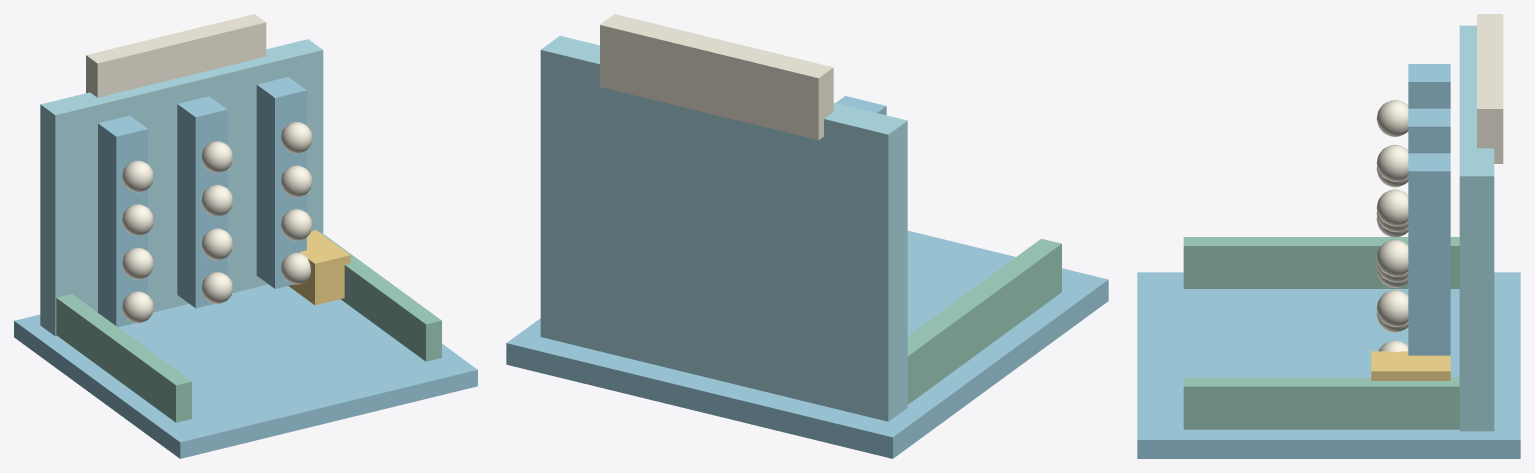
Rendered from fish-bubbles.glb.
3 views of the same model, side by side, from view 1: azimuth 30°, elevation 25°; view 2: azimuth 150°, elevation 25°; view 3: azimuth 270°, elevation 25° (orthographic). The views are drawn at different scales.
Parts seen in each view (by area): view 1: bowl docking mat, reef backdrop, bubble bead.001, guide rail, bubble pump; view 2: reef backdrop, bowl docking mat, bubble bead.001, guide rail; view 3: bowl docking mat, guide rail, reef backdrop, bubble bead.001, bubble pump.
Part boxes in pixels (x1,y1,x2,y2): bowl docking mat: (14, 77, 477, 458); reef backdrop: (40, 39, 323, 336); bubble bead.001: (86, 14, 312, 323); guide rail: (56, 233, 441, 422); bubble pump: (288, 230, 350, 305); reef backdrop: (540, 35, 907, 421); bowl docking mat: (506, 96, 1108, 458); bubble bead.001: (600, 14, 833, 140); guide rail: (907, 238, 1061, 404); bowl docking mat: (1137, 64, 1520, 458); guide rail: (1183, 237, 1459, 429); reef backdrop: (1459, 25, 1494, 431); bubble bead.001: (1376, 14, 1503, 352); bubble pump: (1371, 351, 1450, 380).
Size of the model in its own units: 1.5 by 1.39 by 1.45.
